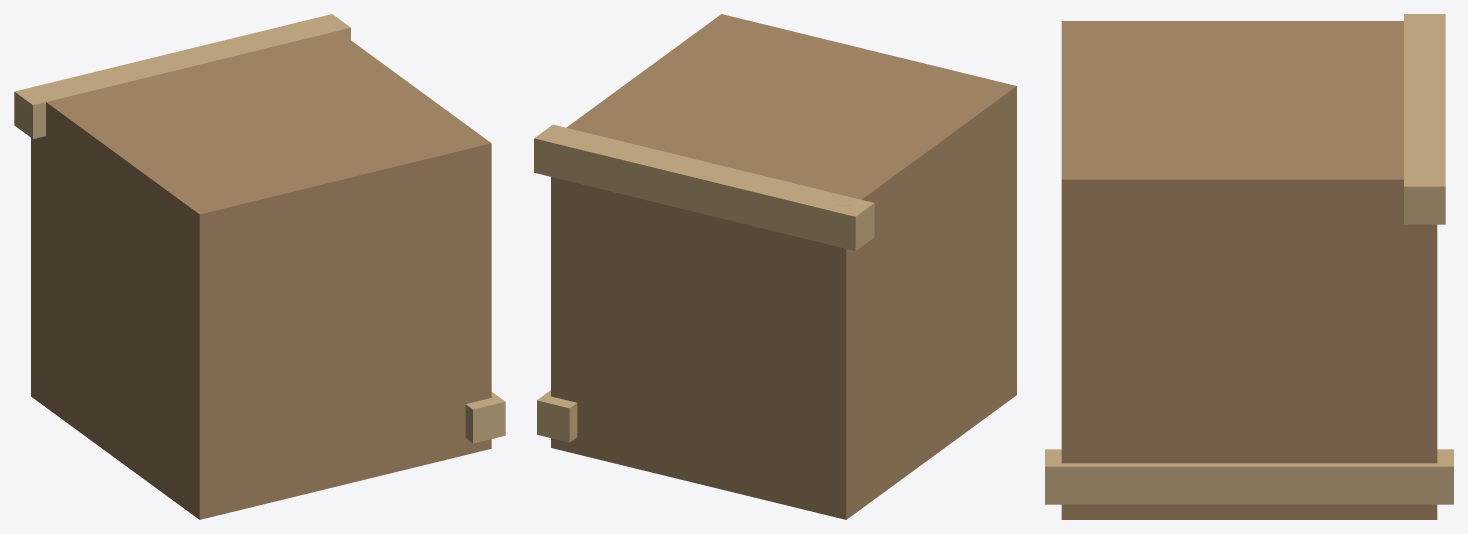
Rendered from crate.glb.
The picture shows the model from 3 angles, left to right: view 1: azimuth 30°, elevation 25°; view 2: azimuth 150°, elevation 25°; view 3: azimuth 270°, elevation 25°; orthographic projection. The views are drawn at different scales.
Parts seen in each view (by area): view 1: Crate; view 2: Crate; view 3: Crate.
Part boxes in pixels (left/top/right/bottom): Crate: left=14, top=14, right=505, bottom=519; Crate: left=534, top=14, right=1016, bottom=519; Crate: left=1045, top=14, right=1453, bottom=519.
Bounding box in the file's own units: 0.98 × 0.9 × 0.98.
